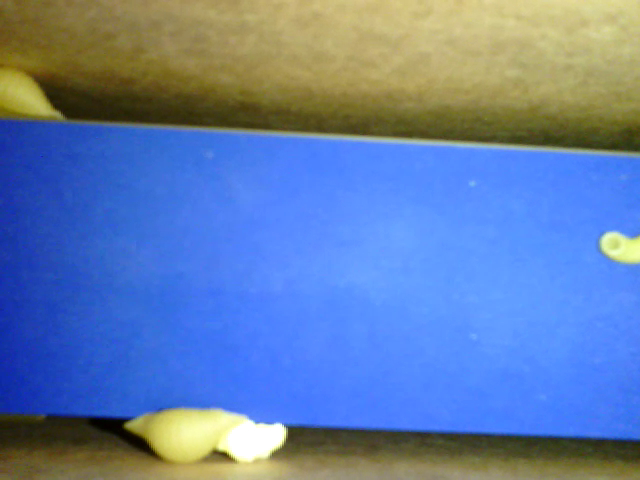elbow: (593, 231, 639, 264)
shell: (119, 405, 244, 464), (1, 67, 68, 121)
